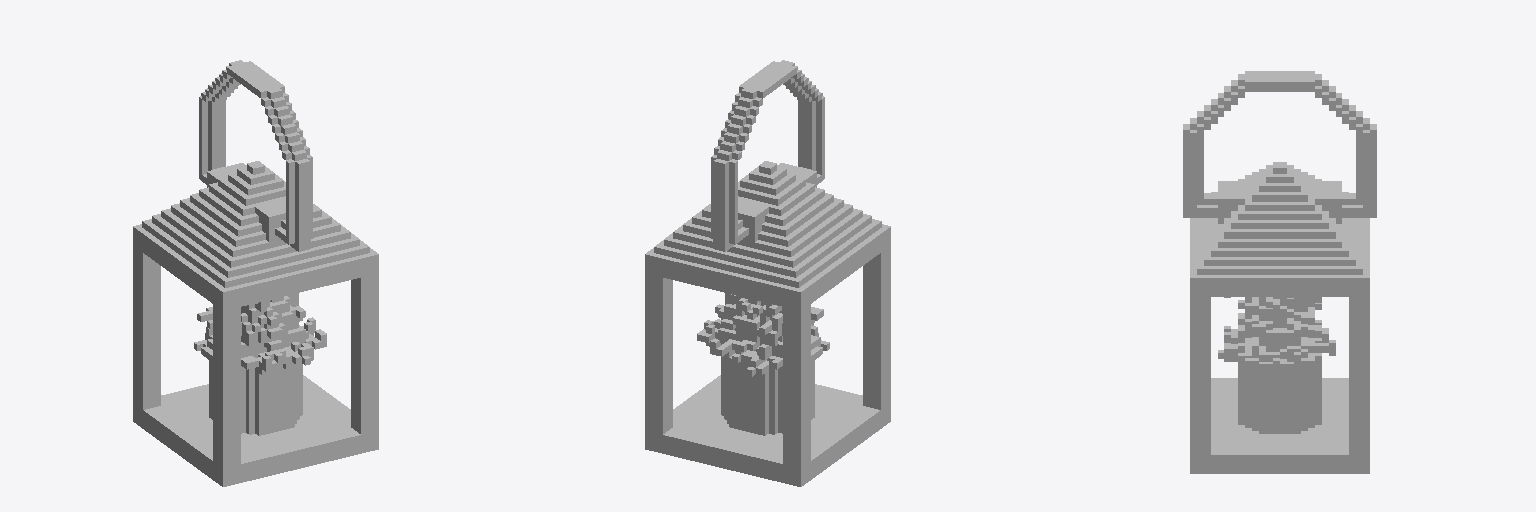
Rendered from Lantern Lamp 2.obj.
The picture shows the model from 3 angles: view 1: azimuth 30°, elevation 25°; view 2: azimuth 150°, elevation 25°; view 3: azimuth 270°, elevation 25°; orthographic projection.
Visible parts, largest first — view 1: object 1; view 2: object 1; view 3: object 1.
Part boxes in pixels (left/top/right/bottom): object 1: left=133, top=60, right=378, bottom=486; object 1: left=645, top=60, right=890, bottom=486; object 1: left=1183, top=71, right=1376, bottom=473.
Bounding box in the file's own units: 2.6 × 5.7 × 2.8.